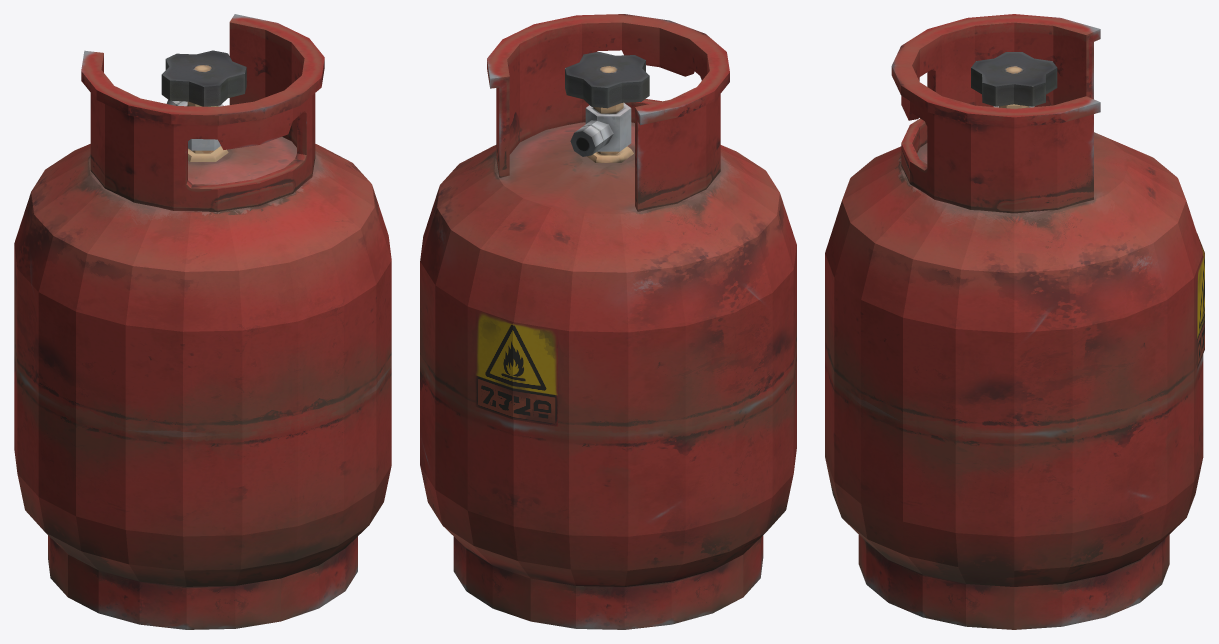
File: P_GasTank_001_S1_M01.obj
3 renders of one model, left to right at view 1: azimuth 30°, elevation 25°; view 2: azimuth 150°, elevation 25°; view 3: azimuth 270°, elevation 25°, orthographic.
Size of the model in its own units: 0.6189 by 0.9 by 0.6216.
Materials: 1 (1 with a texture image).
